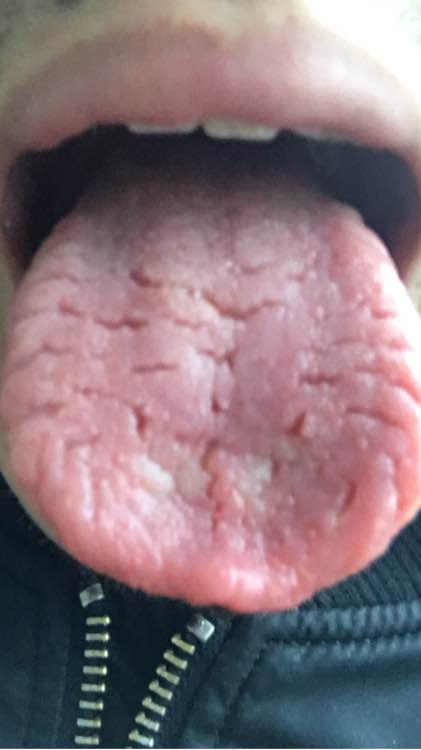baitaishe: (1, 137, 420, 613)
liewenshe: (39, 172, 415, 548)
